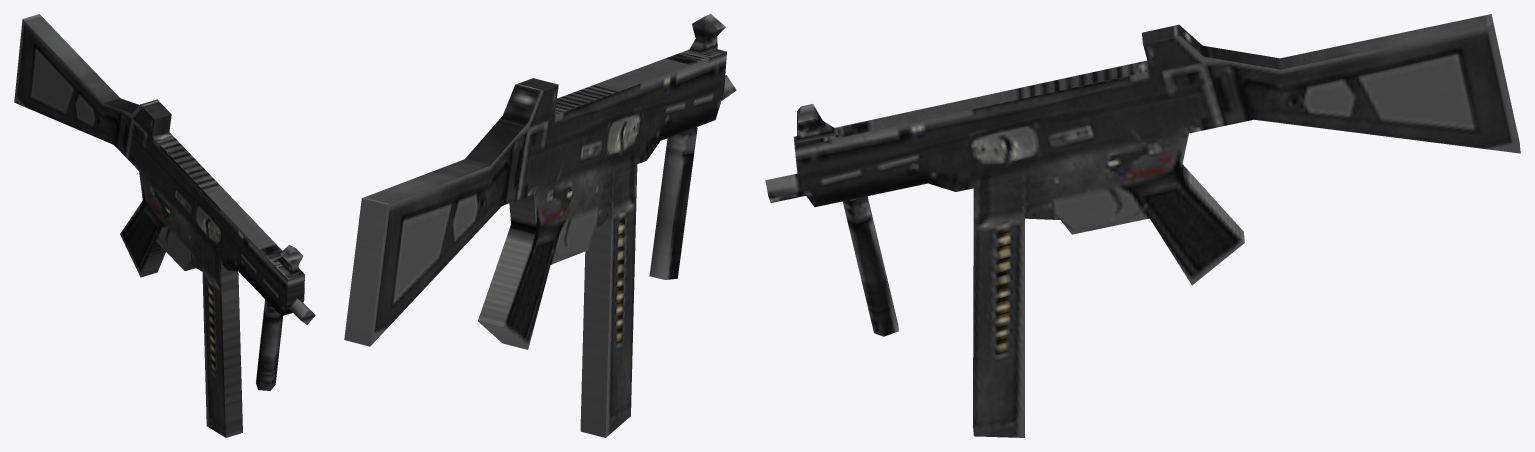
File: ump45-world.glb
3 renders of one model, left to right at view 1: azimuth 30°, elevation 25°; view 2: azimuth 150°, elevation 25°; view 3: azimuth 270°, elevation 25°, orthographic. The views are drawn at different scales.
Visible parts, largest first — view 1: ump45 held; view 2: ump45 held; view 3: ump45 held.
Part boxes in pixels (x1,y1,x2,y2): ump45 held: (14,14,315,437); ump45 held: (344,14,736,437); ump45 held: (765,14,1520,437).
Size of the model in its own units: 0.0418 by 0.3296 by 0.5606.
Materials: 1 (1 with a texture image).
